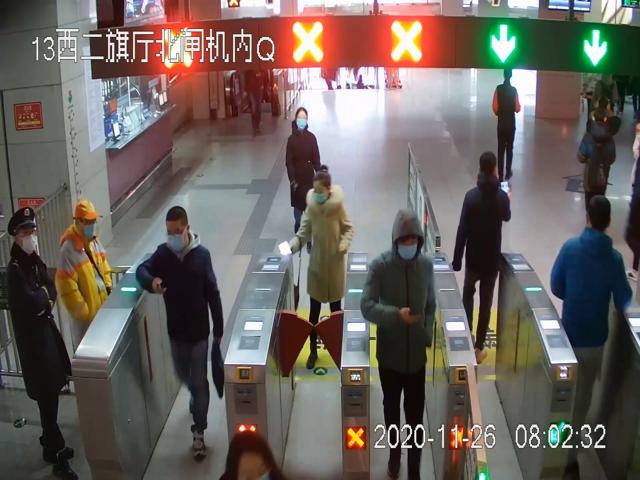person: (549, 197, 634, 480), (136, 205, 226, 453), (1, 208, 79, 480), (362, 209, 435, 480), (287, 164, 352, 368), (453, 151, 512, 364), (56, 196, 113, 348), (283, 108, 321, 255), (492, 68, 520, 183)
